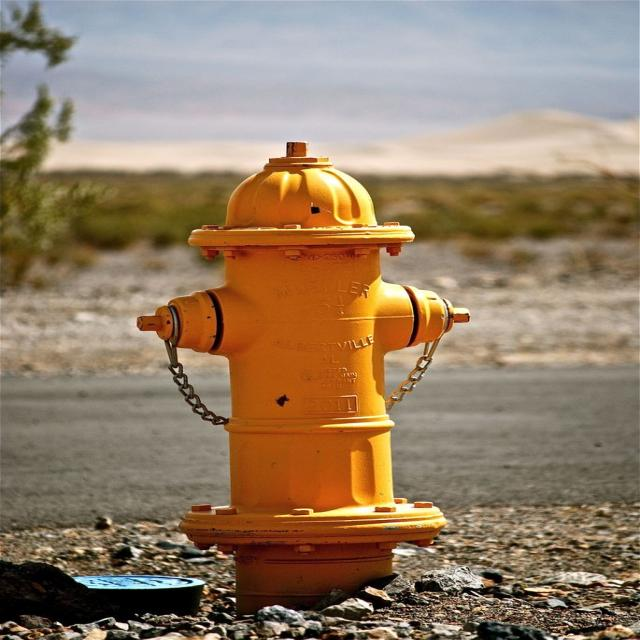fire_hydrant: (134, 141, 471, 611)
